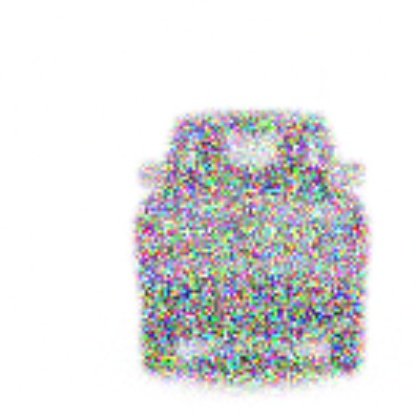Vehicle: (135, 112, 369, 375)
